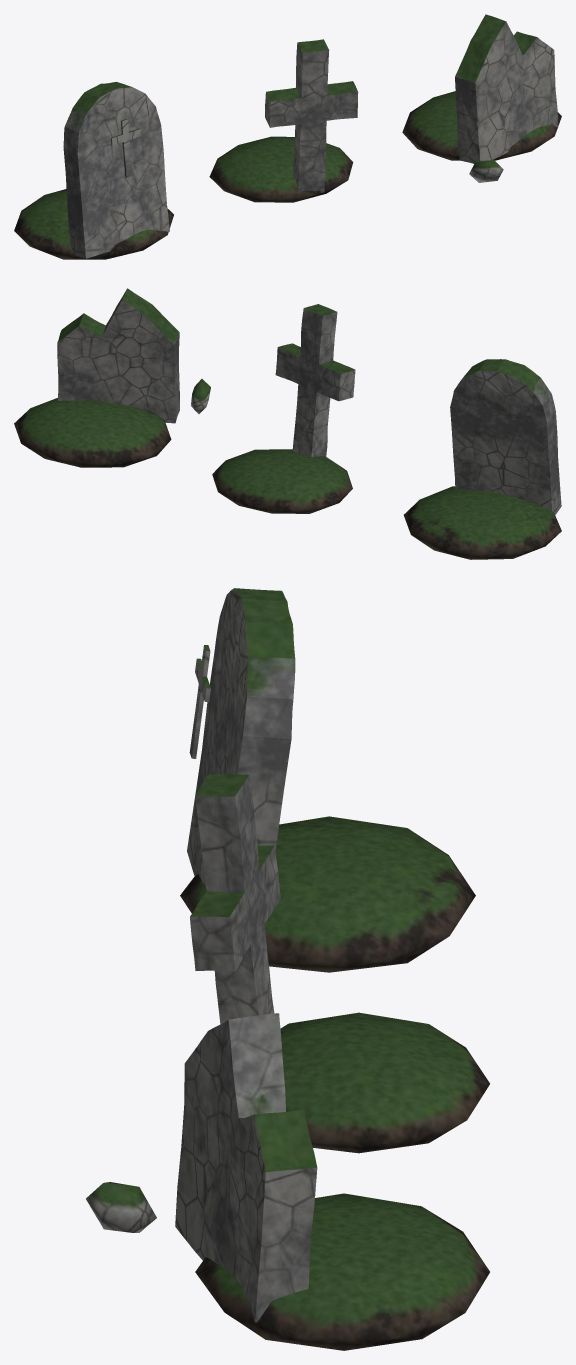
The model's file is gravestone.glb.
3 renders of one model, top to bottom at view 1: azimuth 30°, elevation 25°; view 2: azimuth 150°, elevation 25°; view 3: azimuth 270°, elevation 25°, orthographic. The views are drawn at different scales.
Visible parts, largest first — view 1: gravestone; view 2: gravestone; view 3: gravestone.
Part boxes in pixels (left/top/right/bottom): gravestone: left=14, top=14, right=561, bottom=259; gravestone: left=14, top=288, right=561, bottom=559; gravestone: left=86, top=588, right=489, bottom=1350.
Size of the model in its own units: 4.05 by 1.25 by 1.36.
1 material, 1 textured.
